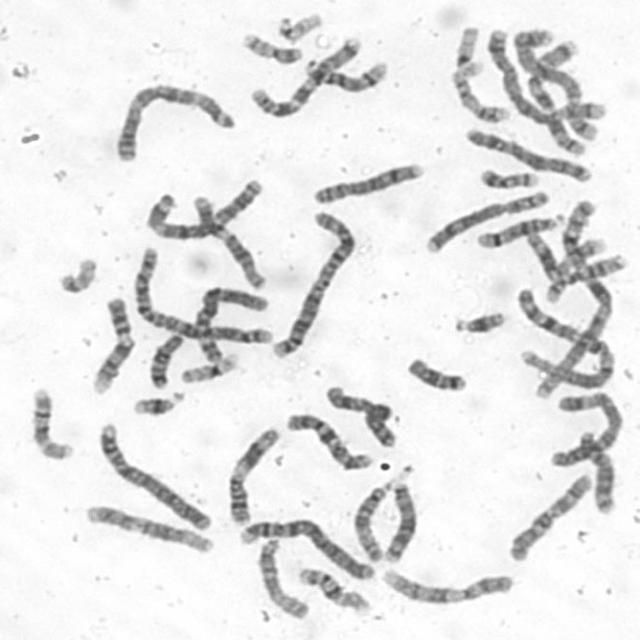A1: (527, 194, 615, 403), (507, 284, 615, 390)
A2: (126, 242, 275, 347), (268, 208, 359, 360)
A3: (110, 78, 239, 163), (143, 176, 263, 242)
B4: (94, 419, 215, 533), (235, 518, 378, 583)
B5: (483, 22, 609, 123), (512, 24, 604, 144)
C10: (503, 470, 595, 560), (282, 409, 374, 473)
C11: (528, 227, 624, 289), (225, 423, 282, 525)
C12: (189, 191, 267, 291), (81, 500, 216, 555)
C6: (190, 282, 269, 366), (548, 387, 622, 469)
C7: (245, 33, 361, 113), (524, 37, 593, 156)
C8: (420, 186, 552, 255), (308, 158, 426, 205)
C9: (380, 567, 518, 610), (88, 295, 138, 396)
D13: (574, 428, 617, 515), (380, 478, 418, 563)
D14: (474, 210, 564, 250), (300, 52, 385, 94)
D15: (256, 533, 312, 621), (351, 481, 391, 564)
E16: (288, 565, 384, 618), (27, 384, 76, 463)
E17: (542, 235, 610, 298), (448, 67, 512, 124)
E18: (404, 352, 469, 393), (145, 330, 186, 390)
F19: (178, 349, 242, 385), (451, 23, 484, 78)
F20: (238, 29, 304, 65), (476, 166, 541, 190)
G21: (129, 387, 186, 418), (449, 308, 507, 336)
G22: (52, 258, 98, 296), (276, 10, 325, 44)
X: (456, 126, 600, 186), (323, 382, 397, 448)
